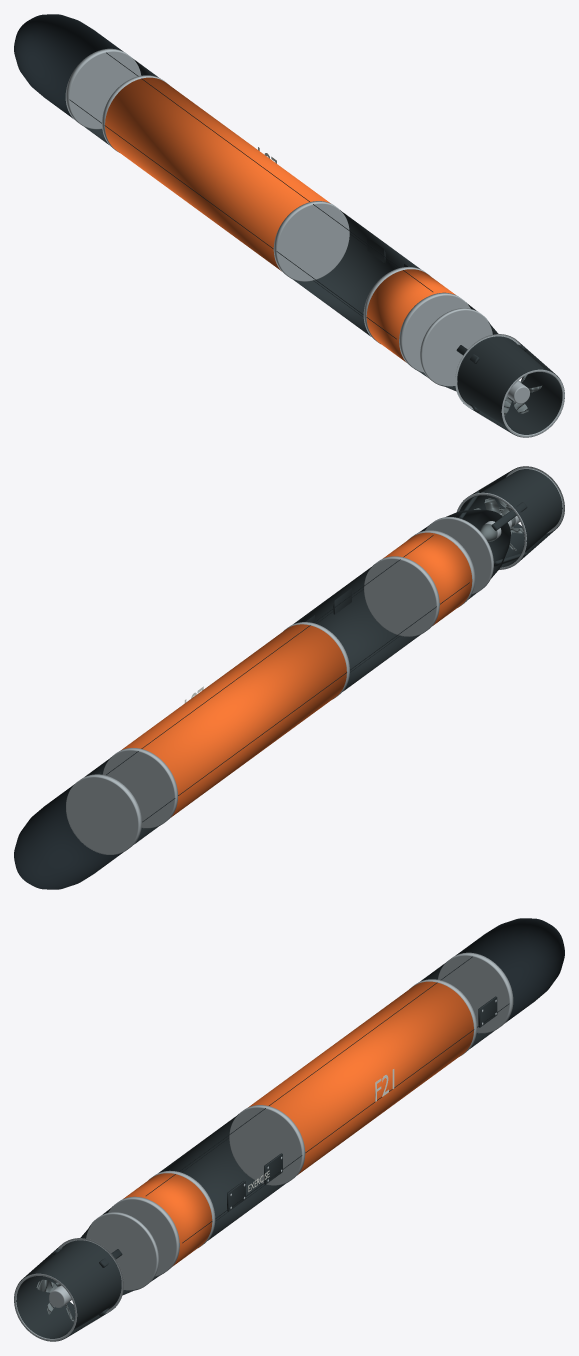
The picture shows the model from 3 angles, top to bottom: view 1: azimuth 30°, elevation 25°; view 2: azimuth 150°, elevation 25°; view 3: azimuth 330°, elevation 25°; orthographic projection.
Visible parts, largest first — view 1: F21_Corpo_Malha, F21_Helice_Re_Malha; view 2: F21_Corpo_Malha, F21_Helice_Vante_Malha; view 3: F21_Corpo_Malha, F21_Helice_Re_Malha.
Part boxes in pixels (left/top/right/bottom): F21_Corpo_Malha: left=14, top=14, right=564, bottom=437; F21_Helice_Re_Malha: left=503, top=375, right=541, bottom=416; F21_Corpo_Malha: left=14, top=466, right=564, bottom=889; F21_Helice_Vante_Malha: left=474, top=498, right=523, bottom=550; F21_Corpo_Malha: left=14, top=918, right=564, bottom=1341; F21_Helice_Re_Malha: left=36, top=1279, right=74, bottom=1322.
Bounding box in the file's own units: 0.543 × 0.5383 × 6.4.
